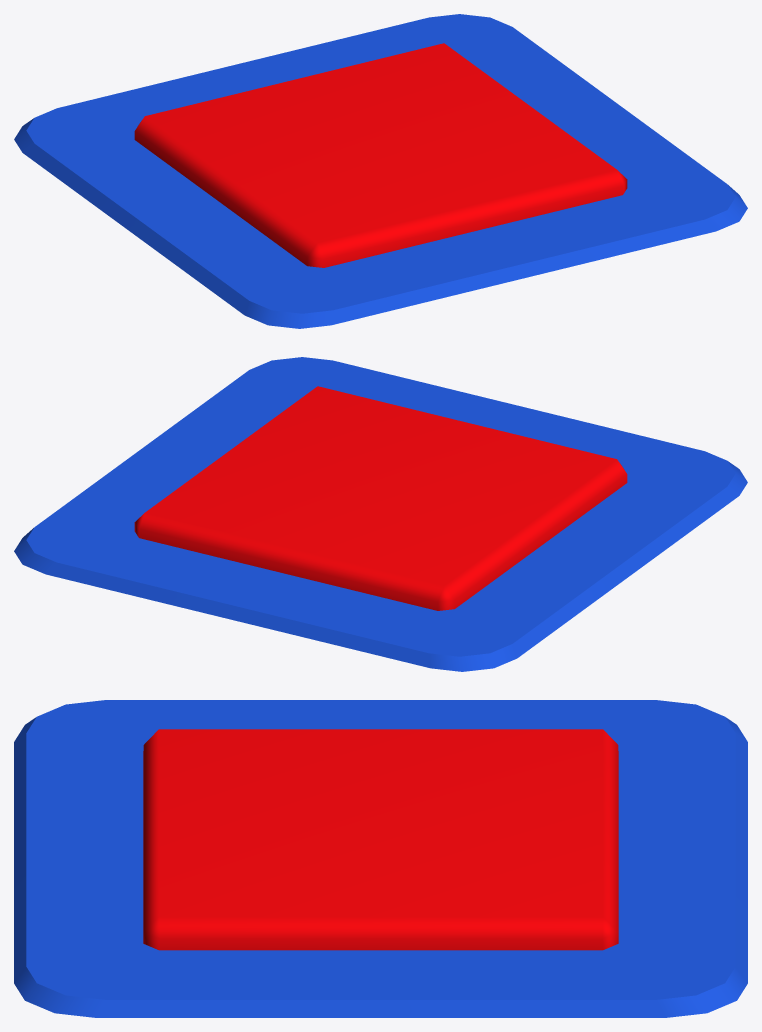
File: Button_1.glb
3 renders of one model, top to bottom at view 1: azimuth 30°, elevation 25°; view 2: azimuth 150°, elevation 25°; view 3: azimuth 270°, elevation 25°, orthographic. The views are drawn at different scales.
Visible parts, largest first — view 1: Button_1; view 2: Button_1; view 3: Button_1.
Boxes of the visible parts, x1=… form: Button_1: x1=14, y1=14, x2=747, y2=328; Button_1: x1=14, y1=357, x2=747, y2=671; Button_1: x1=14, y1=700, x2=747, y2=1017.
Size of the model in its own units: 2.39 by 0.1429 by 2.39.
Materials: 1 (1 with a texture image).
